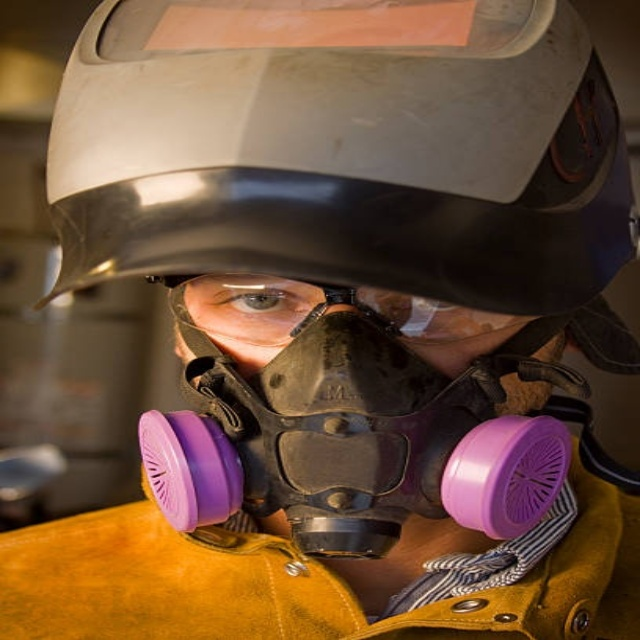Gafas: (163, 273, 520, 351)
Mascara: (127, 306, 579, 565)
